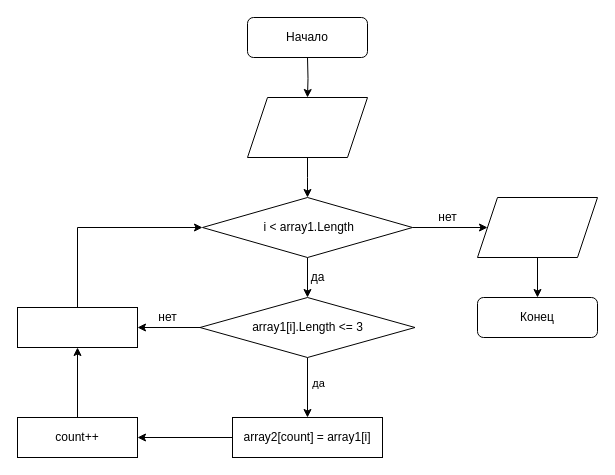
This 615x475 diagram has some shape labels left out. The shapes that lost their labels are listed below. From the top down, each one's centre as x and y in pixels, then its label:
At [307,127]: "string[] array1 string[] array2 int count = 0 int i =0".
At [537,227]: "array2".
At [77,327]: "i++".
